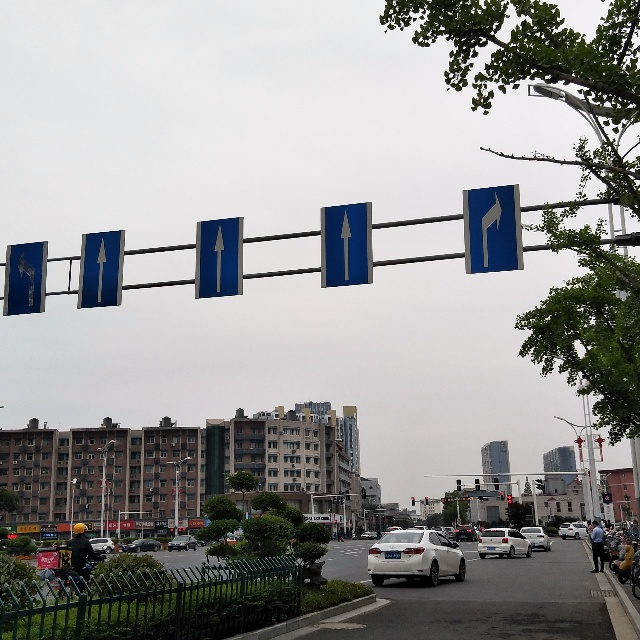left: (5, 240, 42, 323)
right: (469, 190, 515, 269)
straight: (327, 196, 366, 287), (79, 227, 119, 305), (200, 219, 240, 294)
